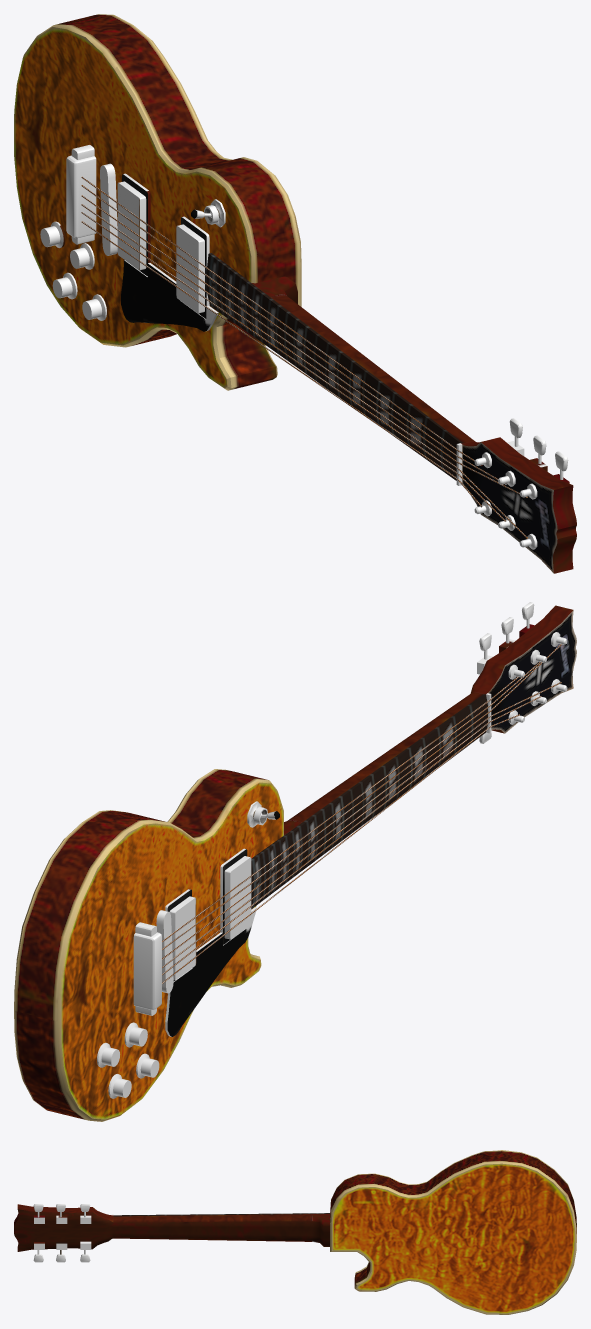
3 views of the same model, one above another, from view 1: azimuth 30°, elevation 25°; view 2: azimuth 150°, elevation 25°; view 3: azimuth 270°, elevation 25° (orthographic). The views are drawn at different scales.
Visible parts, largest first — view 1: Line002; view 2: Line002; view 3: Line002.
Part boxes in pixels (left/top/right/bottom): Line002: left=14, top=14, right=576, bottom=573; Line002: left=14, top=602, right=576, bottom=1121; Line002: left=14, top=1150, right=576, bottom=1314.
Bounding box in the file's own units: 30.99 × 113 × 377.
Materials: 1 (1 with a texture image).
